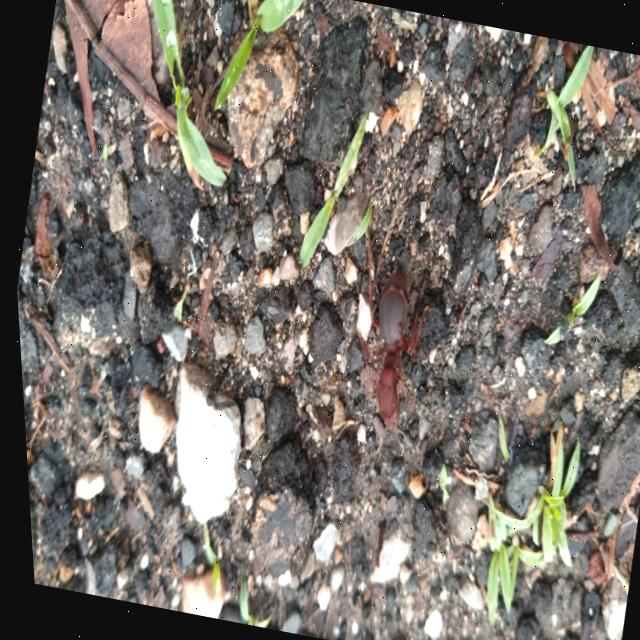Alive-Female-Dealate: (326, 247, 443, 451)
